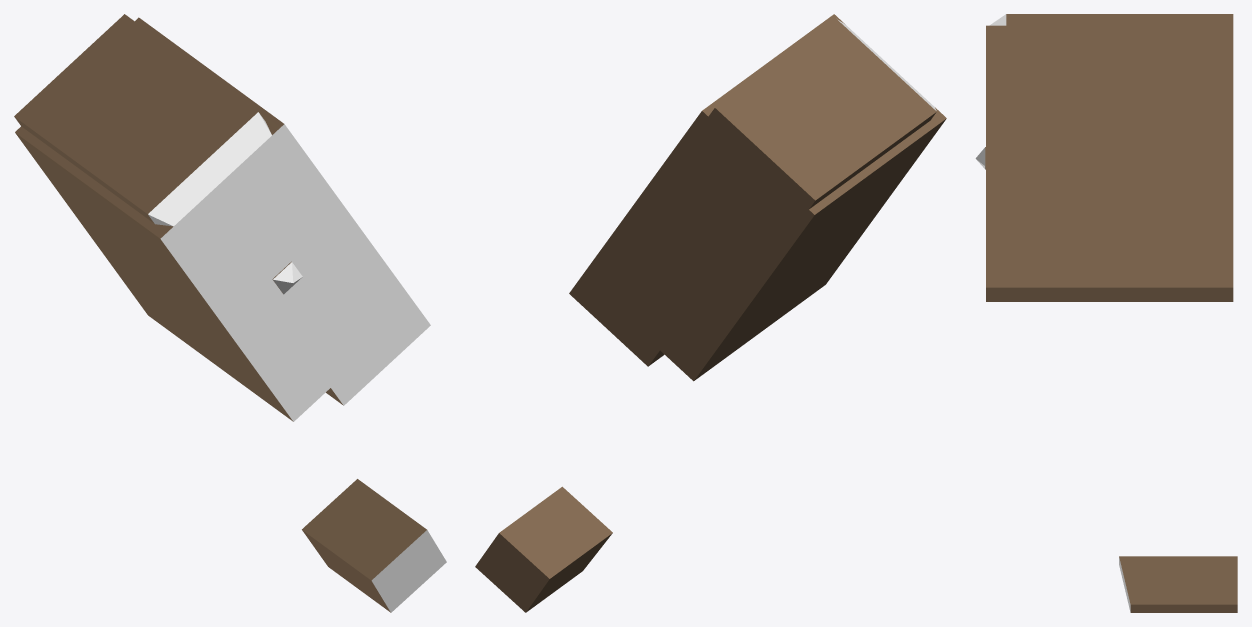
3 views of the same model, side by side, from view 1: azimuth 30°, elevation 25°; view 2: azimuth 150°, elevation 25°; view 3: azimuth 270°, elevation 25° (orthographic). The views are drawn at different scales.
Parts seen in each view (by area): view 1: City_PC-16953; view 2: City_PC-16953; view 3: City_PC-16953.
Boxes of the visible parts, <box> form: City_PC-16953: <box>14,14,446,612</box>; City_PC-16953: <box>475,14,946,612</box>; City_PC-16953: <box>975,14,1237,612</box>.
Bounding box in the file's own units: 1953 × 3031 × 1402.
